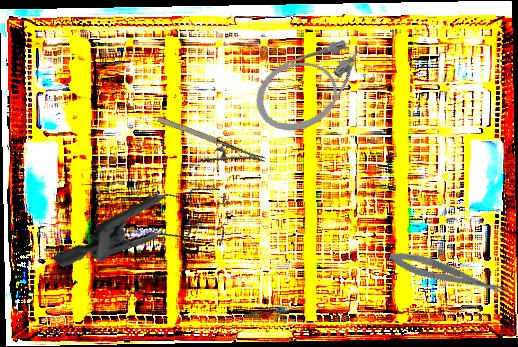Cannula: (244, 24, 390, 145)
Micro Scissor: (386, 245, 511, 304)
Needle Holder: (149, 113, 267, 184)
Speculum: (51, 135, 249, 337)
